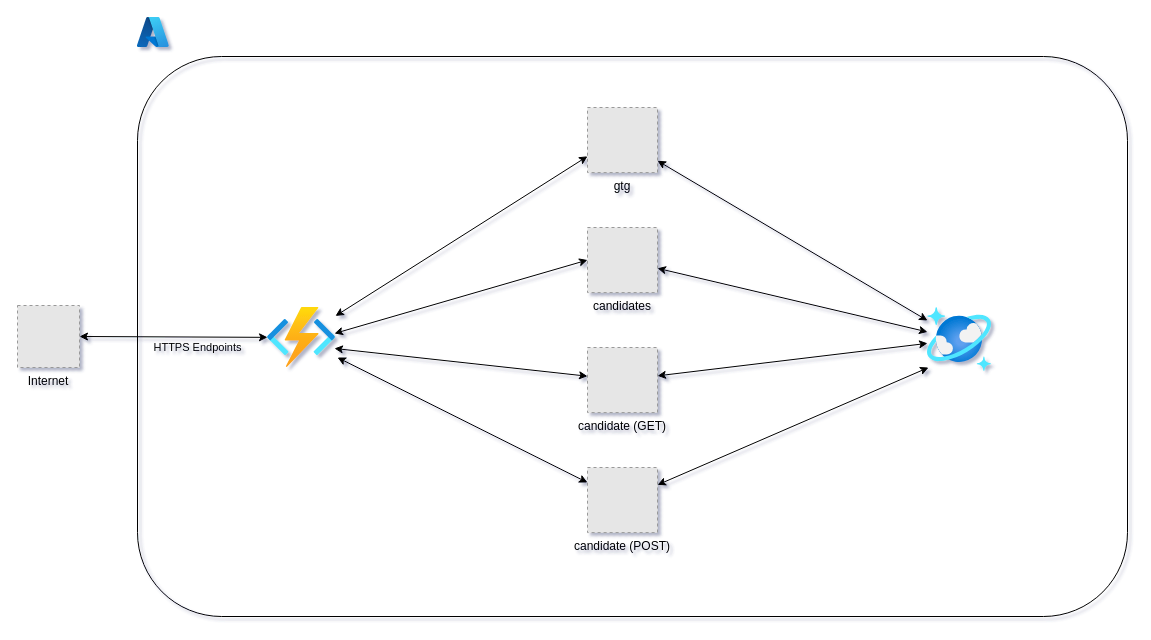
Some shapes in this 1151 by 640 pixel diagram are drawn without their labels. Grey dashed boxes stand in for pictures. Each missing label, with the centre of its shape:
"Azure Cloud - US Central Region" goes at pixel 153 32.
"Cosmos DB Candidates Table" goes at pixel 959 339.
"Flasky Function App" goes at pixel 301 337.
